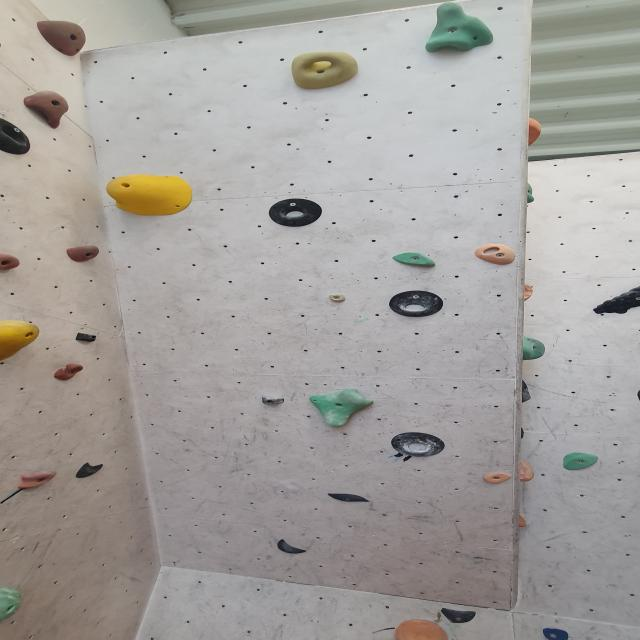Crimp: (555, 451, 603, 473), (482, 470, 514, 485), (328, 294, 353, 303)
Jug: (426, 0, 494, 56), (284, 44, 358, 94), (303, 387, 380, 428), (20, 90, 76, 126), (590, 284, 640, 317), (19, 467, 59, 493), (65, 242, 102, 265), (50, 363, 86, 380)
Pinch: (387, 252, 442, 268), (256, 392, 286, 406), (71, 330, 99, 344)
Pocket: (266, 196, 326, 231), (388, 430, 450, 460), (388, 288, 446, 318), (469, 242, 517, 268)
Sloper: (102, 172, 198, 220), (32, 19, 89, 58), (0, 316, 42, 368), (0, 113, 34, 158), (392, 619, 455, 640), (0, 584, 31, 622), (522, 335, 547, 363), (513, 457, 539, 483)
